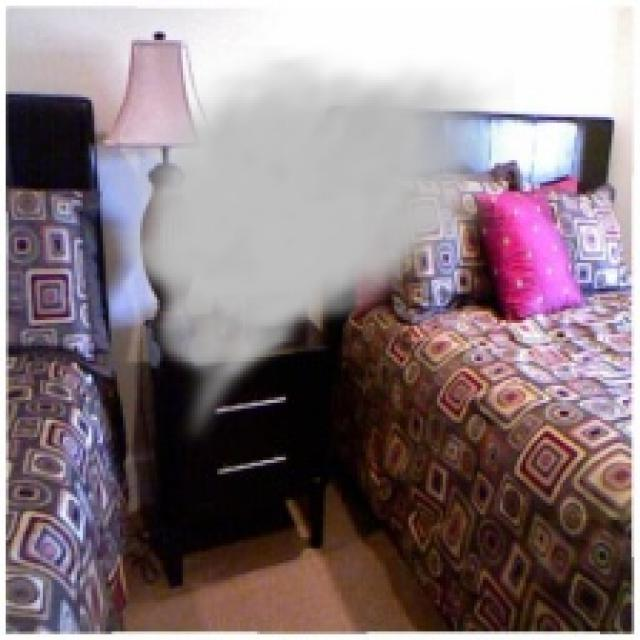smoke: (103, 46, 514, 448)
